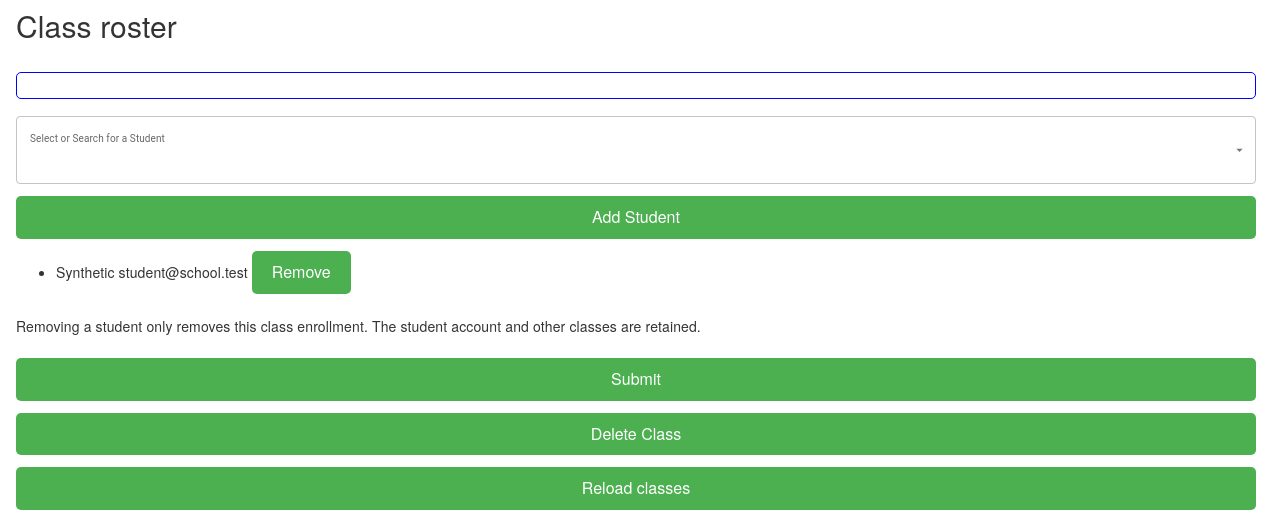
Test case: conflicting removal preserves input and never claims success
Expected: the list item "Synthetic student@school.test Remove" is shown, 56,251 -> 351,294
Click the button "Remove": (301, 272) 252,251 -> 351,294
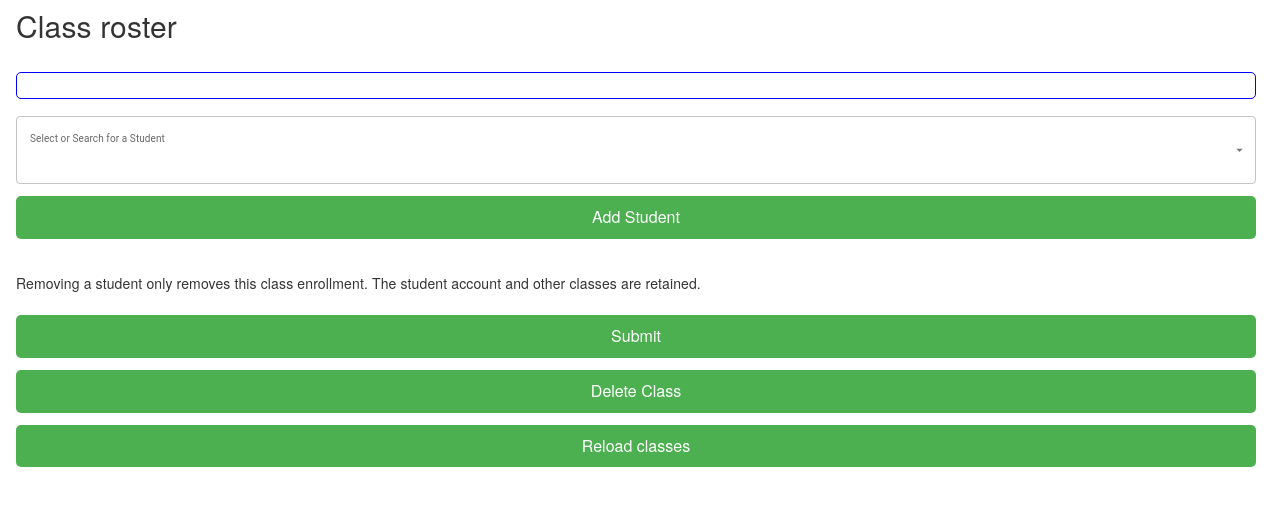
Click the button "Submit": (636, 336) 16,315 -> 1256,358
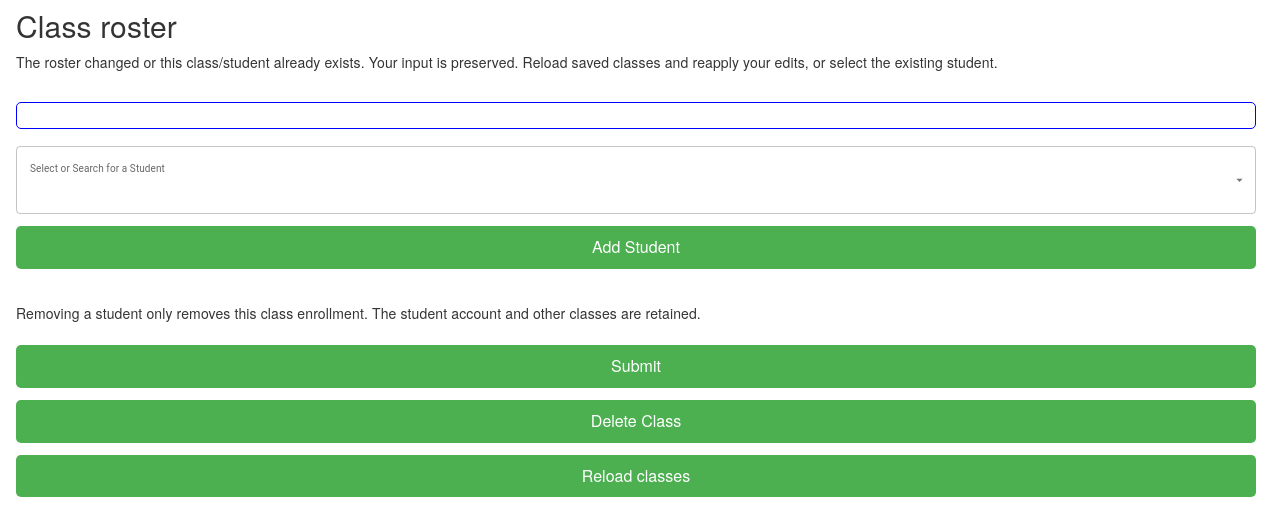
Expected: the message shows "input is preserved", 16,52 -> 998,72
